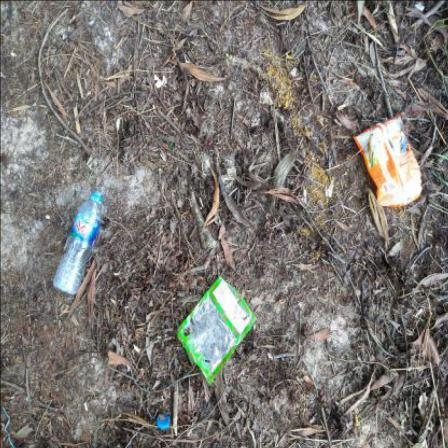Bottle: (54, 191, 104, 296)
Bottle cap: (158, 416, 171, 430), (415, 2, 426, 12)
Plastic bag - wrapper: (177, 276, 258, 386), (355, 115, 424, 208)
Unlabeled litter: (3, 406, 15, 448)
